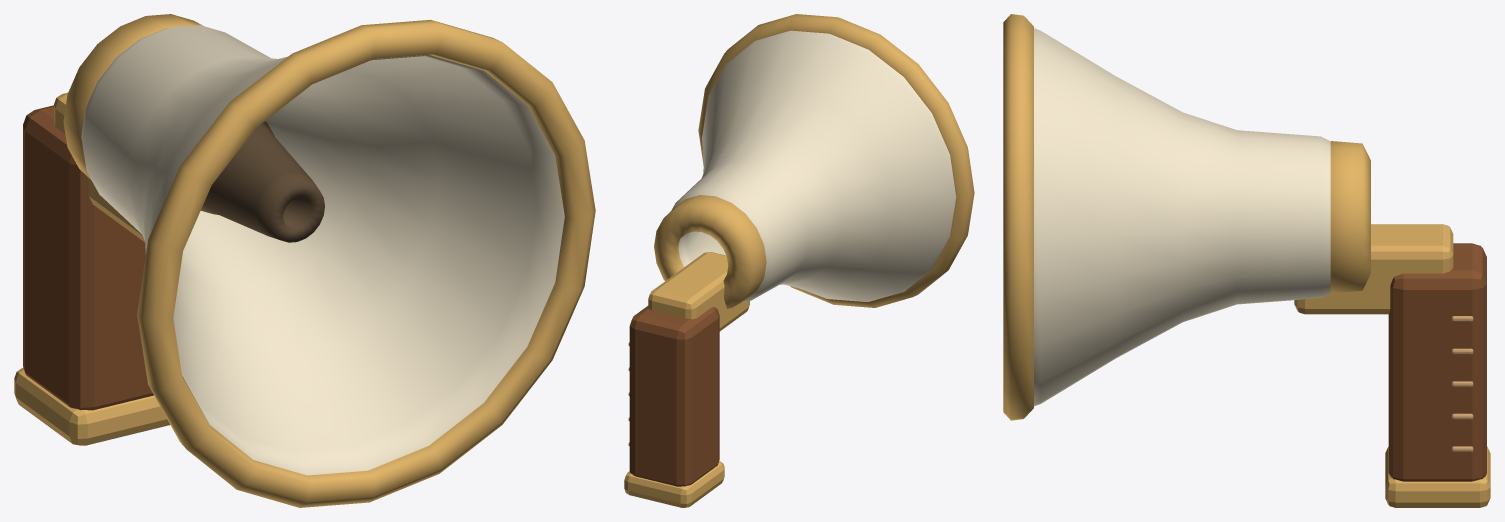
The model's file is AcademyMegaphone.fbx.
3 renders of one model, left to right at view 1: azimuth 30°, elevation 25°; view 2: azimuth 150°, elevation 25°; view 3: azimuth 270°, elevation 25°, orthographic. The views are drawn at different scales.
Parts seen in each view (by area): view 1: Warm enamel, Brushed brass, Saddle leather, Inner driver; view 2: Warm enamel, Brushed brass, Saddle leather; view 3: Warm enamel, Brushed brass, Saddle leather, Warm stitching.
Boxes of the visible parts, x1=… form: Warm enamel: x1=81, y1=25, x2=564, y2=475; Brushed brass: x1=14, y1=14, x2=595, y2=507; Saddle leather: x1=23, y1=105, x2=153, y2=410; Inner driver: x1=201, y1=121, x2=324, y2=242; Warm enamel: x1=671, y1=30, x2=956, y2=302; Brushed brass: x1=624, y1=14, x2=974, y2=507; Saddle leather: x1=629, y1=306, x2=719, y2=486; Warm enamel: x1=1034, y1=28, x2=1330, y2=406; Brushed brass: x1=1003, y1=14, x2=1490, y2=507; Saddle leather: x1=1388, y1=243, x2=1486, y2=481; Warm stitching: x1=1451, y1=316, x2=1473, y2=452.
Bounding box in the file's own units: 98 × 121 × 117.
